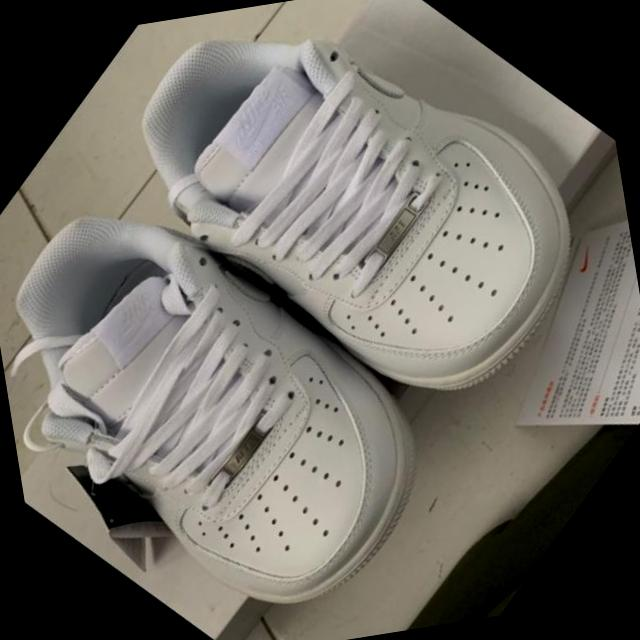nike_original_airforce: (72, 0, 640, 488), (0, 110, 495, 640)
